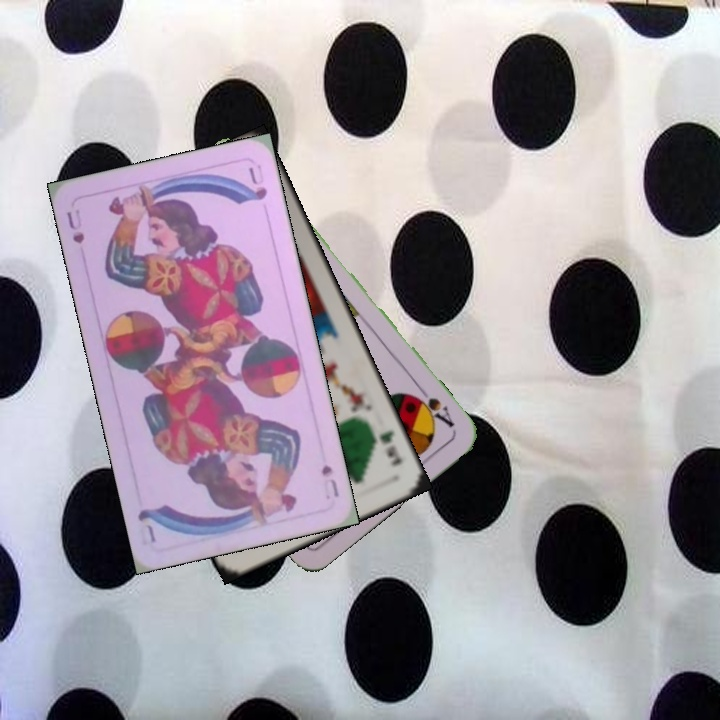GK: (375, 426, 405, 469)
SA: (407, 390, 457, 430)
SU: (62, 205, 87, 246), (317, 460, 342, 500)
